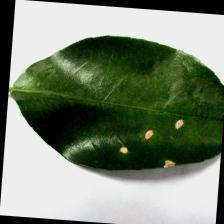canker: (103, 108, 194, 172)
